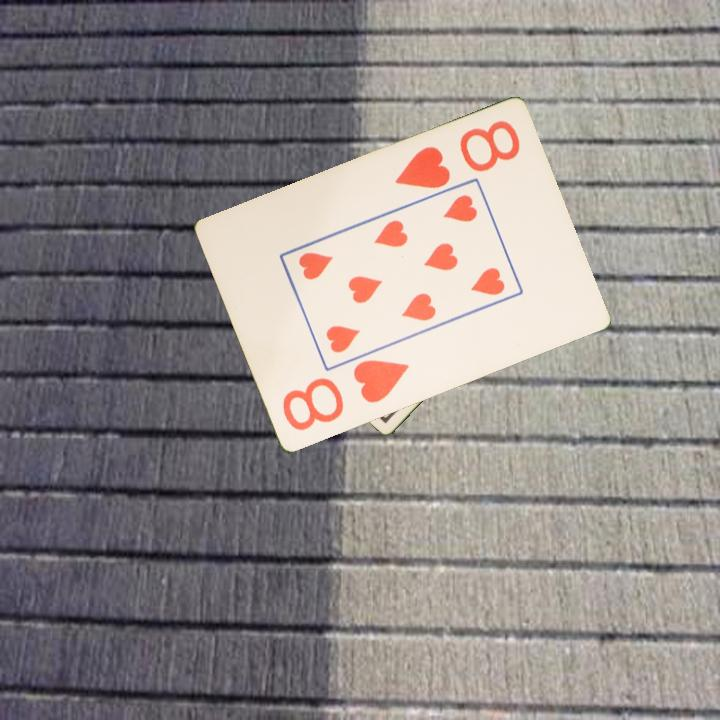8h: (278, 356, 412, 435), (391, 117, 523, 193)
